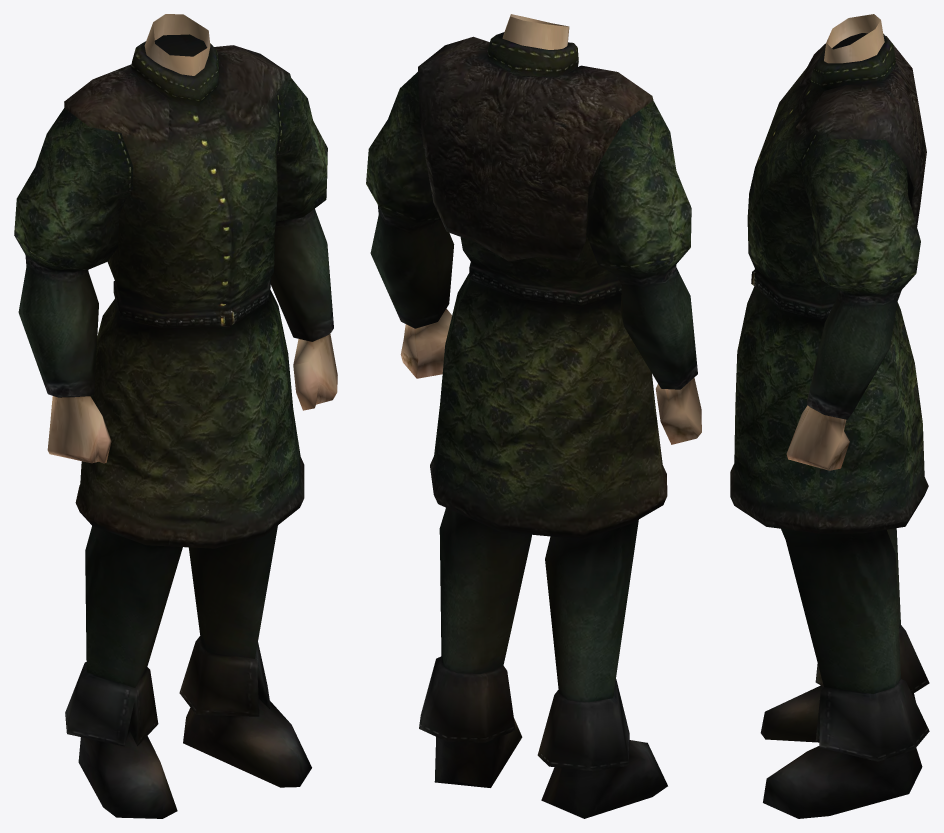
File: KM_RM_NOHAT_01.glb
3 renders of one model, left to right at view 1: azimuth 30°, elevation 25°; view 2: azimuth 150°, elevation 25°; view 3: azimuth 270°, elevation 25°, orthographic. The views are drawn at different scales.
Visible parts, largest first — view 1: KM_RM_NOHAT_01; view 2: KM_RM_NOHAT_01; view 3: KM_RM_NOHAT_01.
Part boxes in pixels (x1,y1,x2,y2): KM_RM_NOHAT_01: (14, 14, 337, 818); KM_RM_NOHAT_01: (366, 14, 701, 818); KM_RM_NOHAT_01: (730, 14, 929, 818).
Bounding box in the file's own units: 0.7034 × 1.7 × 0.4101.
2 materials, 2 textured.
